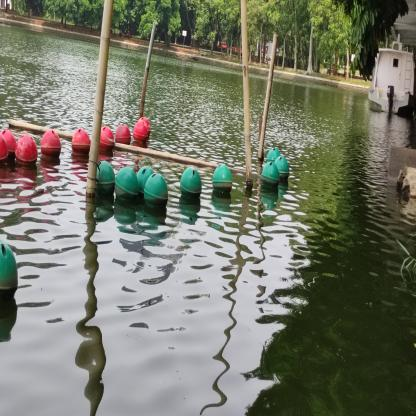green_buoy: (0, 241, 19, 302), (144, 172, 169, 208), (115, 166, 139, 203), (179, 166, 203, 200), (95, 161, 115, 197), (212, 162, 234, 194), (136, 165, 154, 196), (261, 161, 280, 190), (274, 156, 290, 182), (266, 148, 281, 164)
red_buoy: (15, 134, 38, 166), (40, 129, 62, 159), (71, 127, 91, 156), (0, 128, 16, 158), (98, 125, 115, 152), (116, 123, 132, 146), (133, 120, 148, 142), (0, 133, 9, 163), (139, 116, 151, 136)
